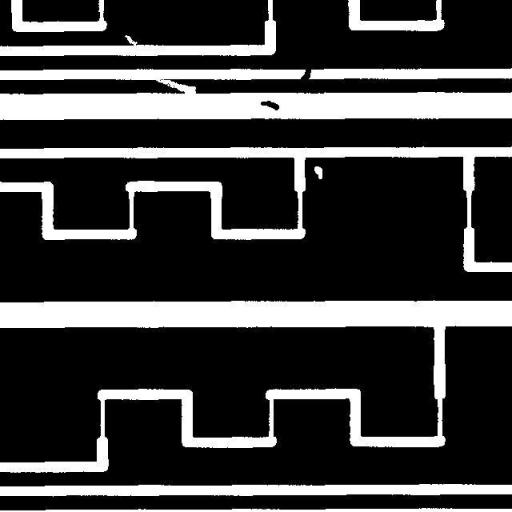copper: (253, 92, 286, 118)
mousebite: (117, 28, 145, 54)
open: (147, 70, 203, 102)
pin-hole: (306, 158, 330, 186)
short: (293, 59, 318, 89)
